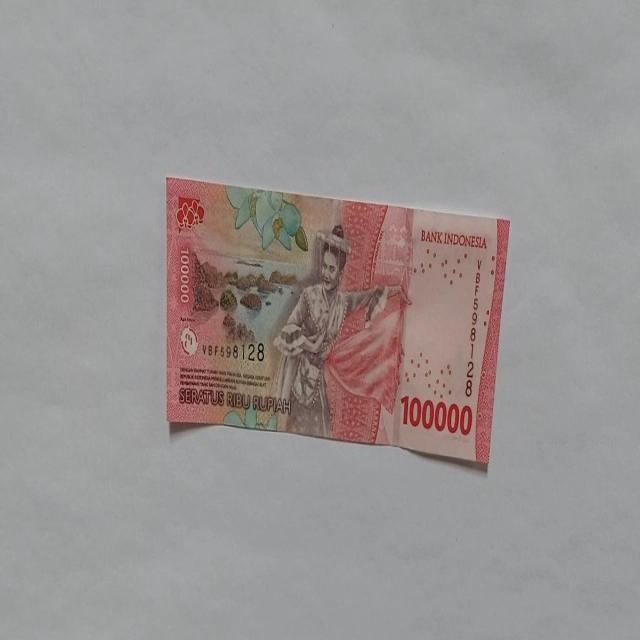Kertas: (164, 175, 510, 471), (399, 393, 473, 436)
